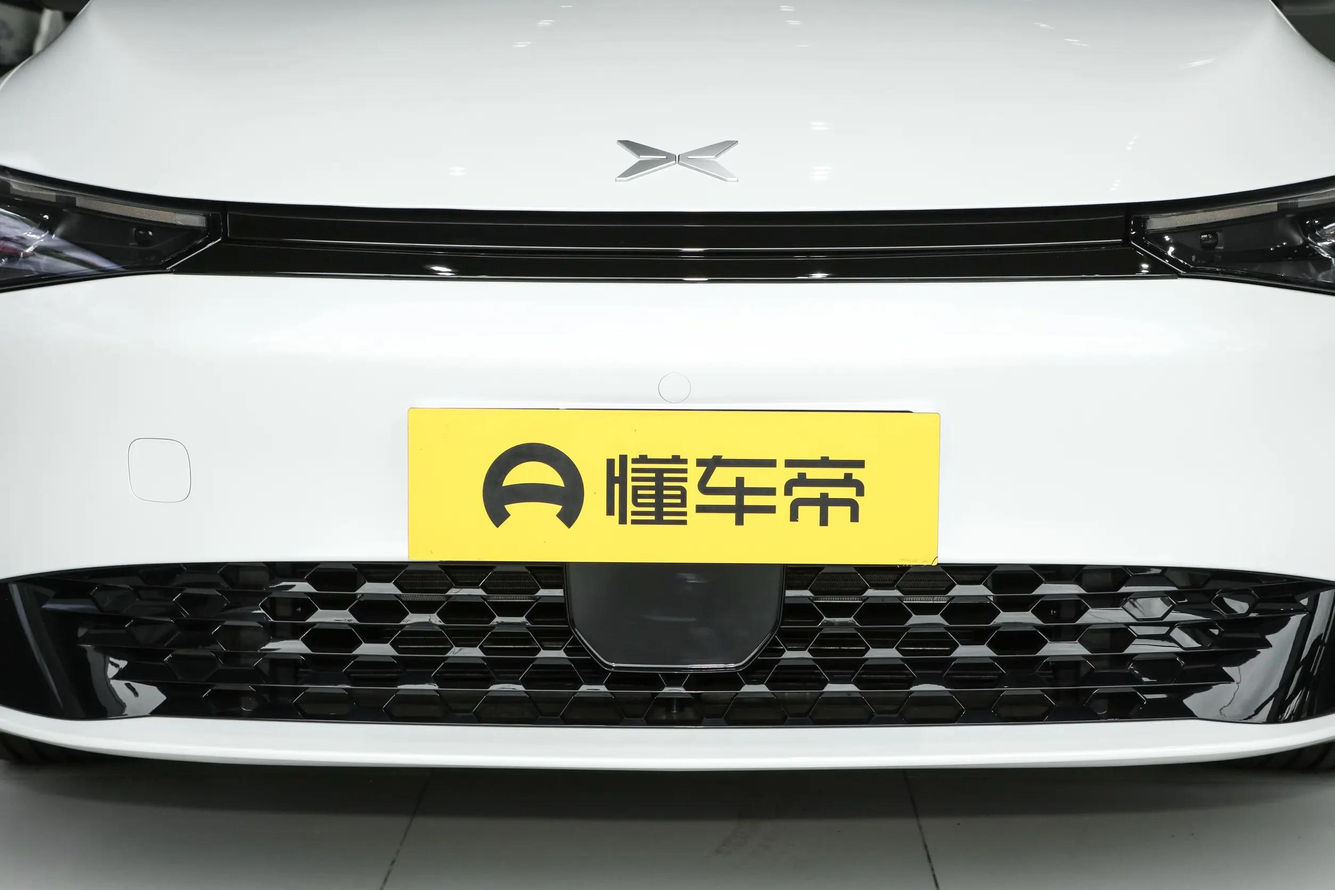XPeng Motors: (615, 140, 738, 181)
